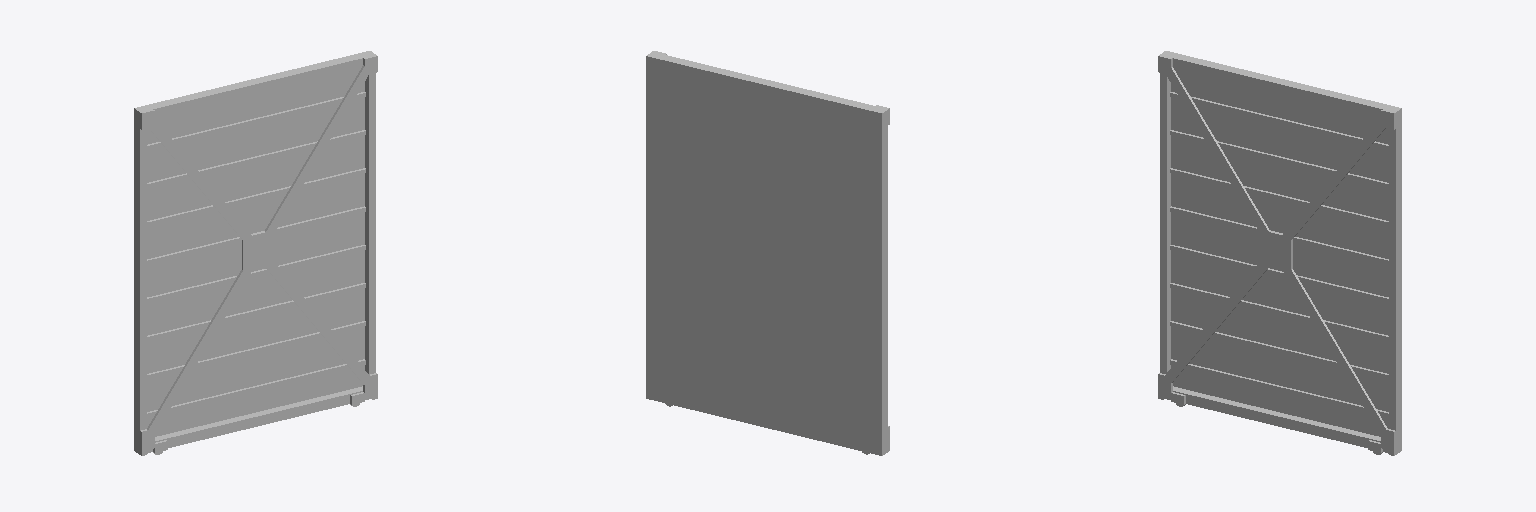
File: b_door_l1.obj
The picture shows the model from 3 angles: view 1: azimuth 30°, elevation 25°; view 2: azimuth 150°, elevation 25°; view 3: azimuth 330°, elevation 25°; orthographic projection.
Bounding box in the file's own units: 1067 × 1502 × 58.95.